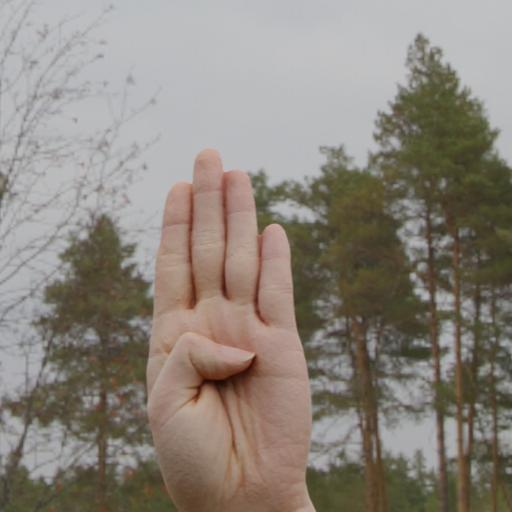B: (137, 141, 319, 512)
